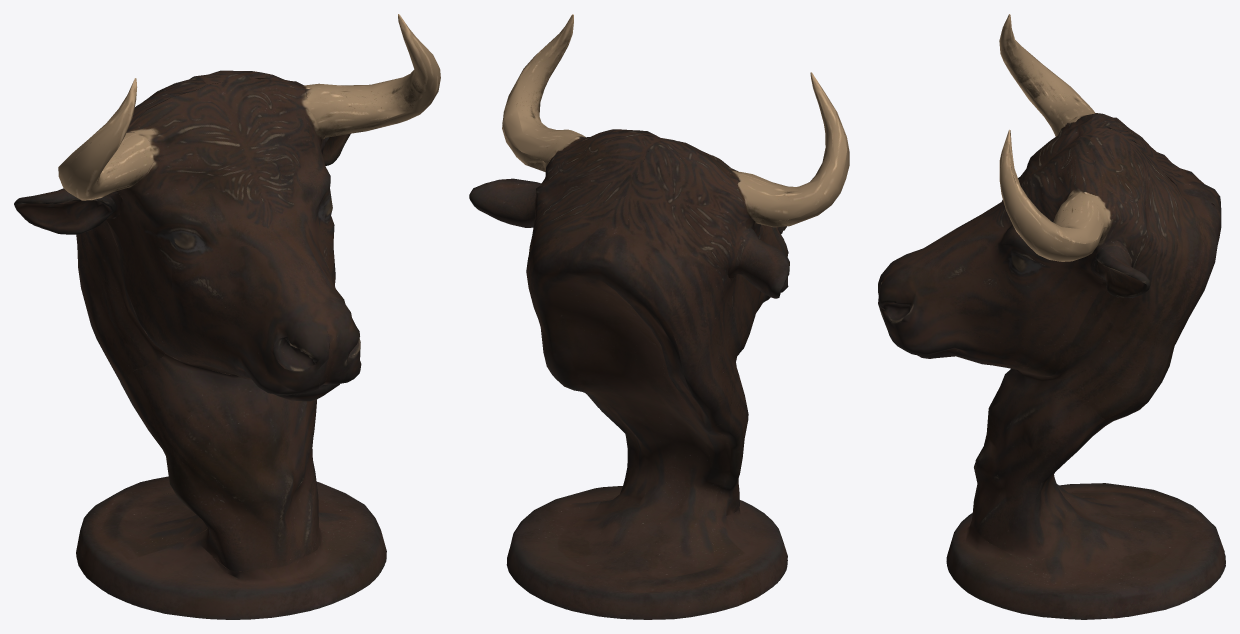
File: bull_head.glb
The picture shows the model from 3 angles, left to right: view 1: azimuth 30°, elevation 25°; view 2: azimuth 150°, elevation 25°; view 3: azimuth 270°, elevation 25°; orthographic projection. The views are drawn at different scales.
Visible parts, largest first — view 1: bull_head; view 2: bull_head; view 3: bull_head.
Part boxes in pixels (x1,y1,x2,y2): bull_head: (14,14,440,619); bull_head: (469,14,849,619); bull_head: (878,14,1225,619).
Size of the model in its own units: 0.3063 by 0.433 by 0.2806.
Materials: 1 (1 with a texture image).
